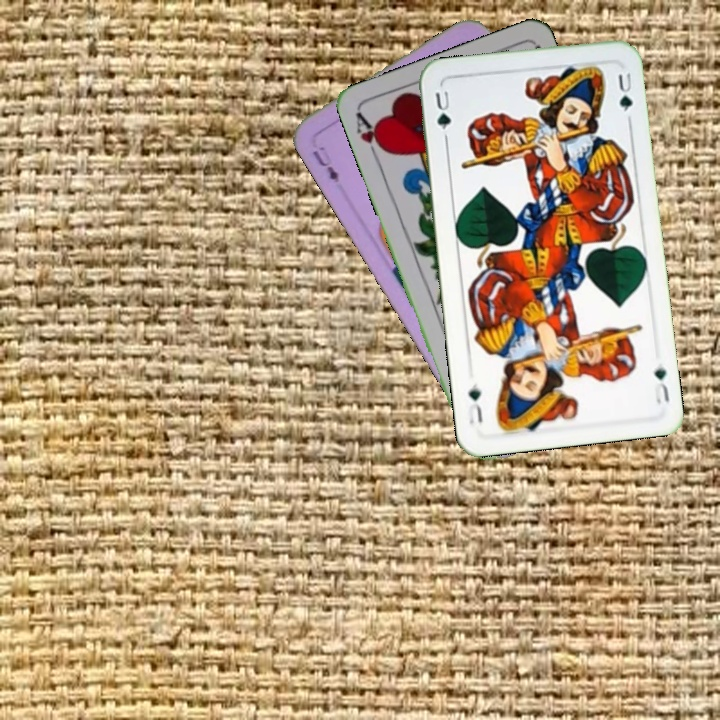EU: (308, 146, 342, 186)
GU: (431, 87, 454, 142), (650, 363, 672, 407)
HA: (352, 109, 390, 166)
